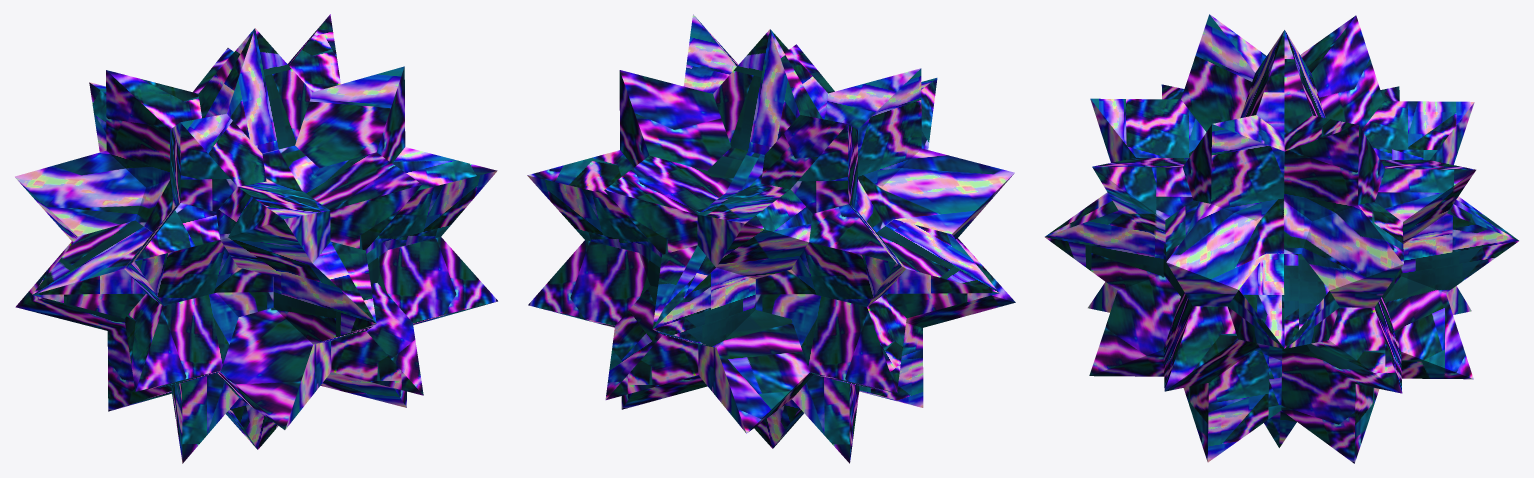
Rendered from Thunder_projectile.DAE.
3 renders of one model, left to right at view 1: azimuth 30°, elevation 25°; view 2: azimuth 150°, elevation 25°; view 3: azimuth 270°, elevation 25°, orthographic.
Visible parts, largest first — view 1: Hedra001; view 2: Hedra001; view 3: Hedra001.
Boxes of the visible parts, left/top/right/bottom form: Hedra001: left=15, top=14, right=497, bottom=463; Hedra001: left=527, top=14, right=1015, bottom=463; Hedra001: left=1045, top=14, right=1518, bottom=463.
Size of the model in its own units: 13.36 by 11.88 by 12.22.
1 material, 1 textured.
